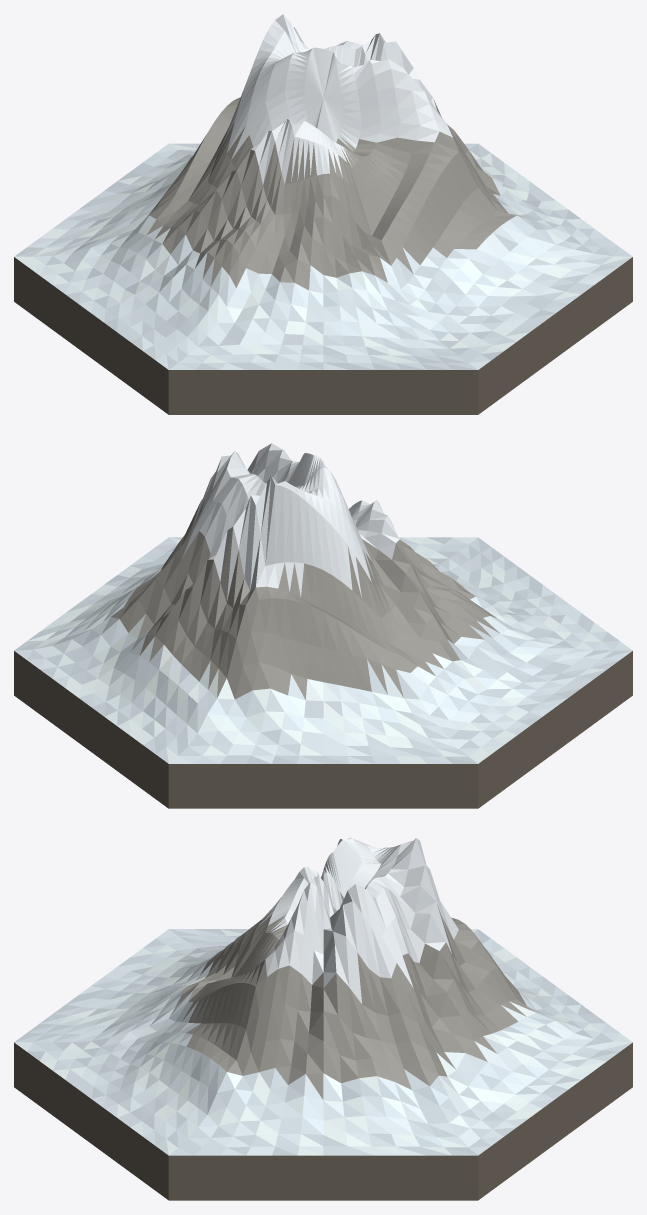
Rendered from TERRAIN_SNOW_MOUNTAIN_v01.fbx.
The picture shows the model from 3 angles, top to bottom: view 1: azimuth 30°, elevation 25°; view 2: azimuth 150°, elevation 25°; view 3: azimuth 270°, elevation 25°; orthographic projection.
Parts seen in each view (by area): view 1: TERRAIN_SNOW_MOUNTAIN_v01; view 2: TERRAIN_SNOW_MOUNTAIN_v01; view 3: TERRAIN_SNOW_MOUNTAIN_v01.
Boxes of the visible parts, x1,y1,x2,y2 form: TERRAIN_SNOW_MOUNTAIN_v01: (14,14,632,414); TERRAIN_SNOW_MOUNTAIN_v01: (14,443,632,808); TERRAIN_SNOW_MOUNTAIN_v01: (14,837,632,1200).
Bounding box in the file's own units: 173 × 89.94 × 200.
